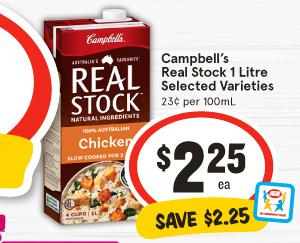description_block: (157, 45, 285, 93)
price_main: (132, 118, 271, 207)
product_image_block: (32, 11, 155, 220)
promo_text_block: (138, 200, 262, 233)
unit_price_block: (158, 93, 237, 109)
